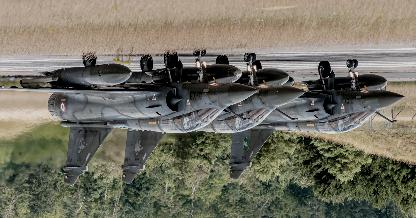Mirage2000: (0, 50, 260, 186), (121, 53, 306, 184), (230, 60, 406, 180)
